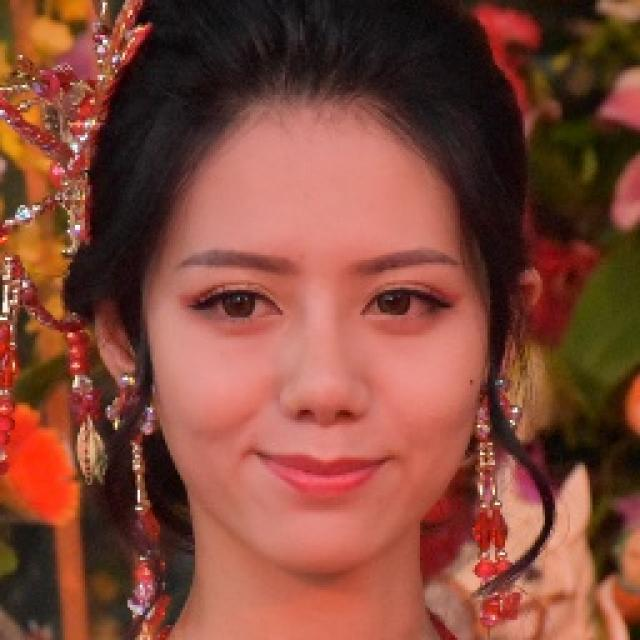earlobe: (109, 368, 161, 418), (480, 380, 510, 412)
eye: (198, 284, 280, 326), (365, 287, 448, 325)
nose: (285, 404, 365, 450)
wholeear: (90, 273, 158, 415), (483, 260, 543, 414)
